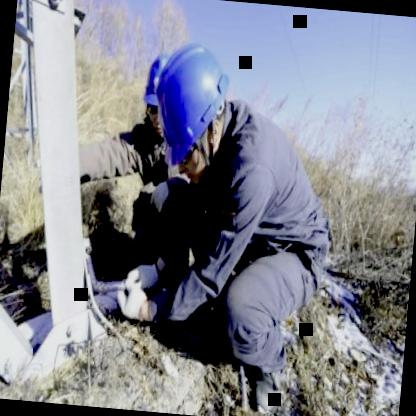helmet: (148, 34, 244, 188), (136, 46, 176, 144)
